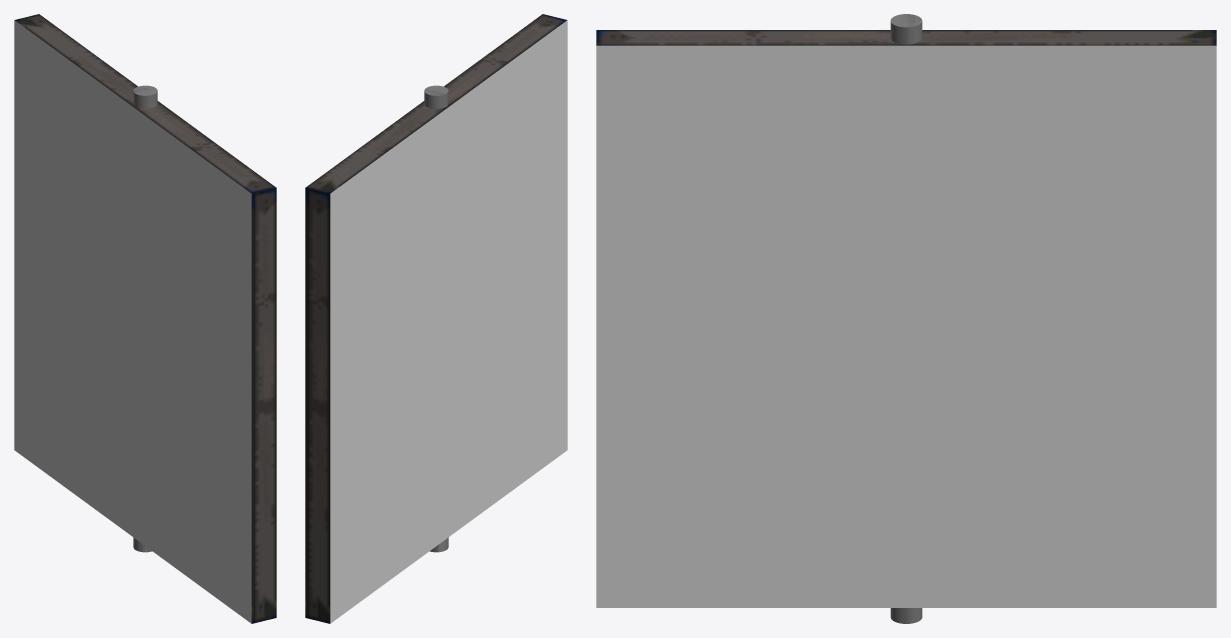
File: flipping_panel.fbx
The picture shows the model from 3 angles, left to right: view 1: azimuth 30°, elevation 25°; view 2: azimuth 150°, elevation 25°; view 3: azimuth 270°, elevation 25°; orthographic projection. The views are drawn at different scales.
Parts seen in each view (by area): view 1: RotatingPanel; view 2: RotatingPanel; view 3: RotatingPanel.
Part boxes in pixels (x1,y1,x2,y2): RotatingPanel: (14, 14, 276, 623); RotatingPanel: (305, 14, 567, 623); RotatingPanel: (596, 14, 1216, 623).
Size of the model in its own units: 12.05 by 212 by 200.
